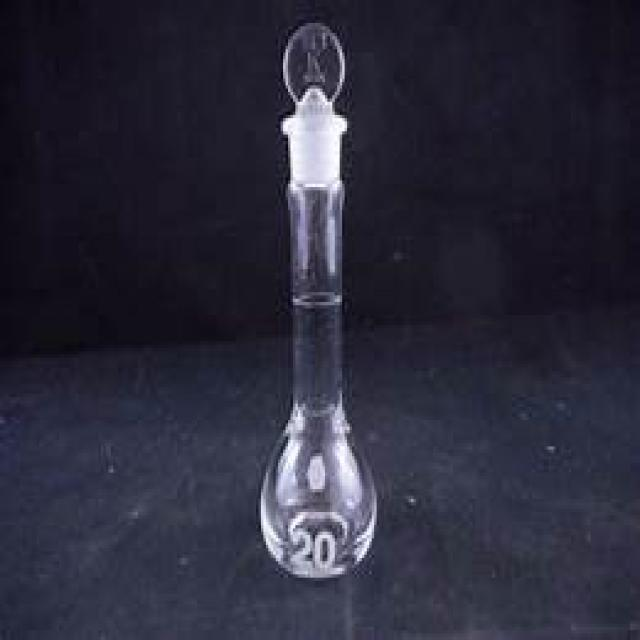Volumetric flask: (239, 23, 386, 578)
